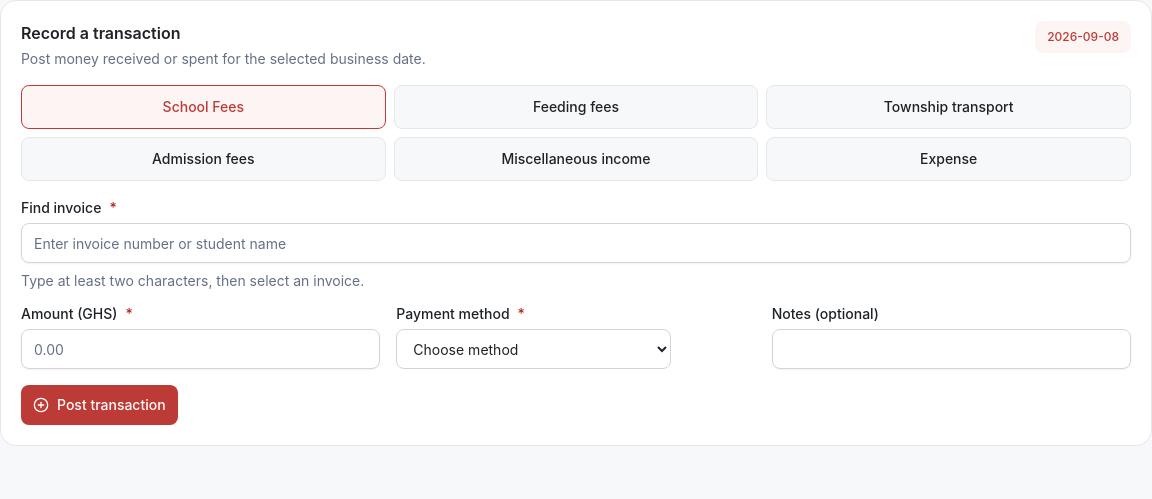
Test: daily cashflow entry › searches invoices by name and posts the selected result using the keyboard
Type "Synthetic" into the dropdown labelled "Find invoice *" at (576, 243), box [21,223,1131,263]
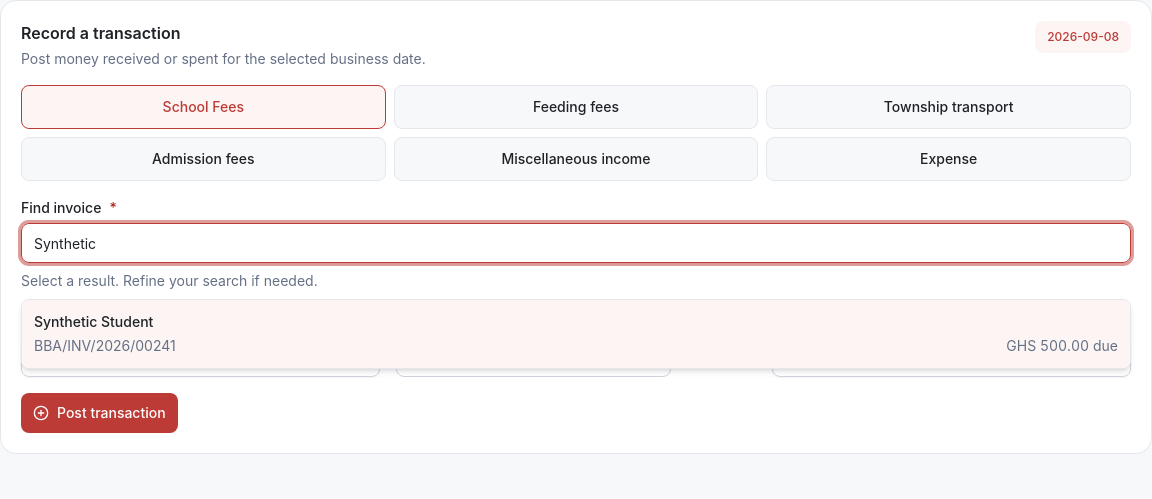
Check: the option "Synthetic Student BBA/INV/2026/00241 GHS 500.00 due" is shown, box [22,300,1130,368]
Press Enter
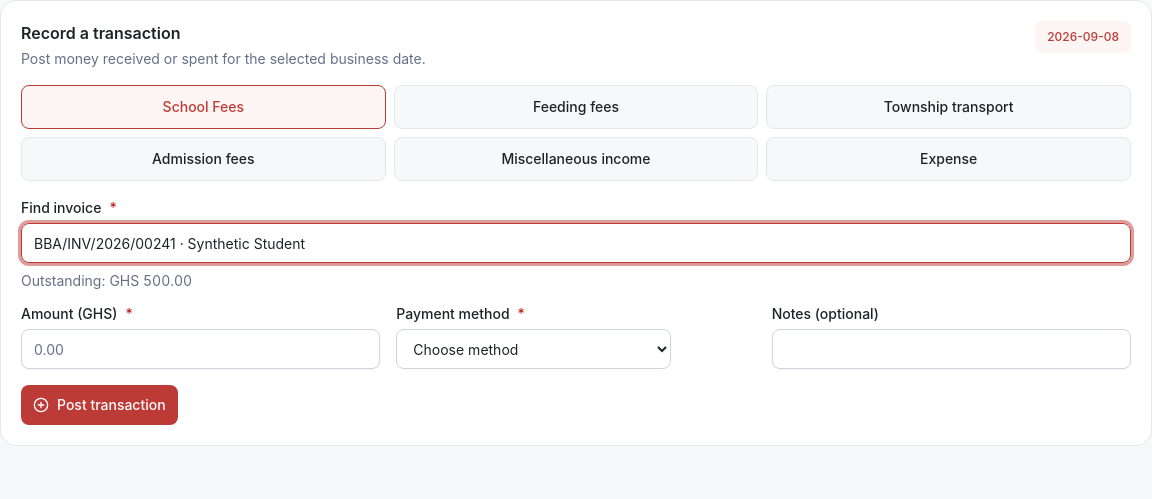
Check: the text "Outstanding: GHS 500.00" is shown, box [21,272,192,289]
Type "500" into the field labelled "Amount (GHS) *" at (201, 349), box [21,329,380,369]
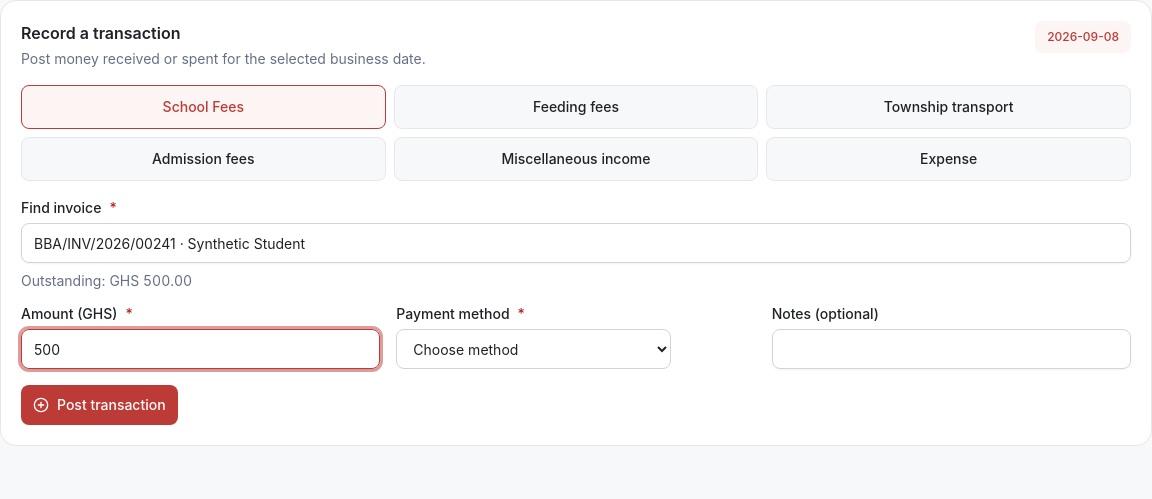
Select "Cash" in the dropdown labelled "Payment method *" at (534, 349), box [396,329,671,369]
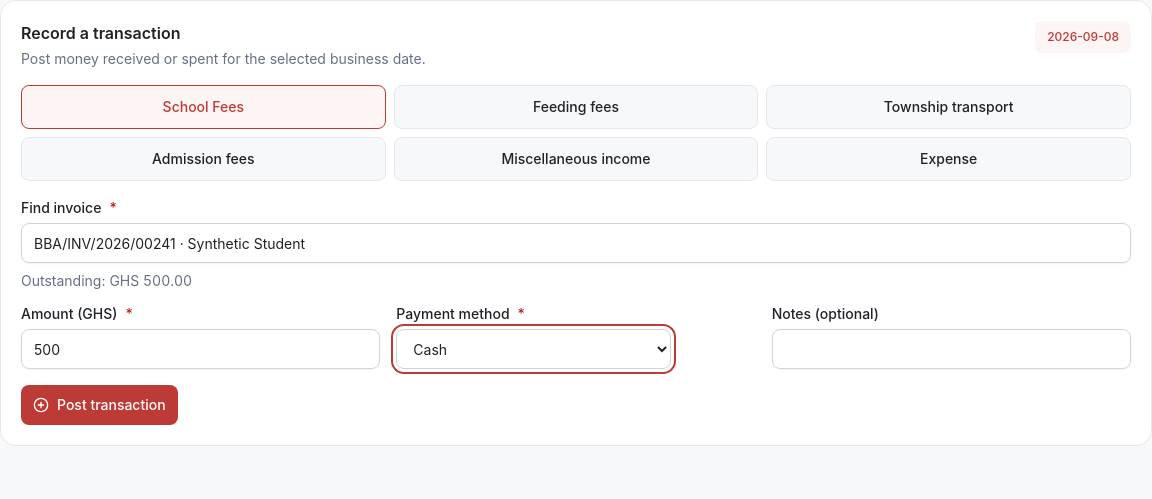
Click the button "Post transaction" at (99, 405), box [21,385,178,425]
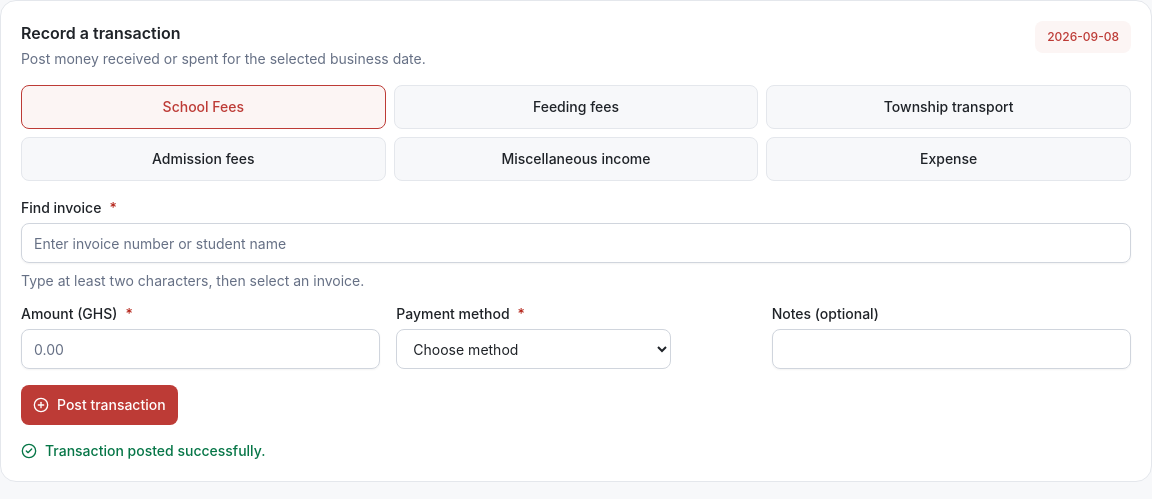
Check: the message "Transaction posted successfully." is shown, box [21,442,266,459]
Check: the dropdown labelled "Find invoice *" is empty, box [21,223,1131,263]
